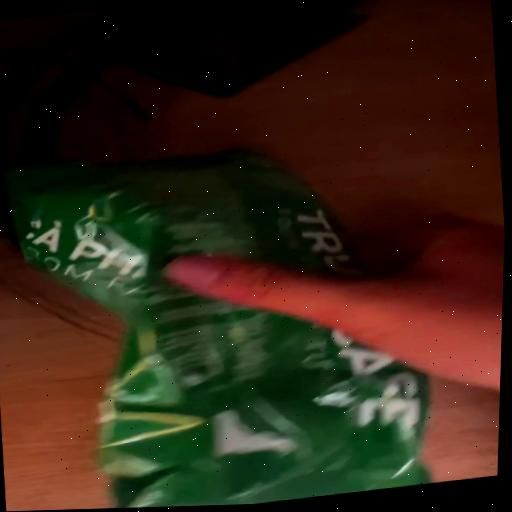cafe_xay: (8, 151, 431, 508)
